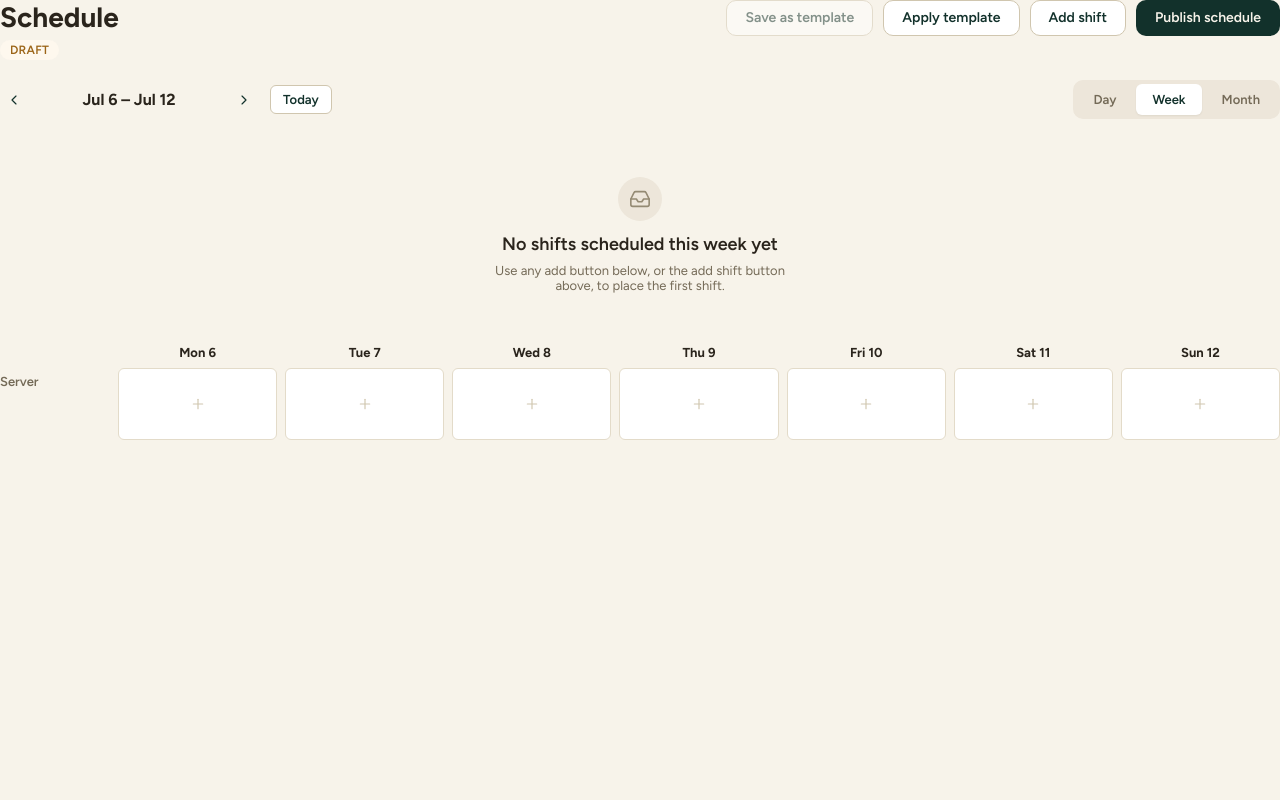
Test case: ScheduleView header › header add shift button opens the dialog with position and day selects
Click the button "Add shift" at (1078, 18), box left=1030, top=0, right=1126, bottom=36
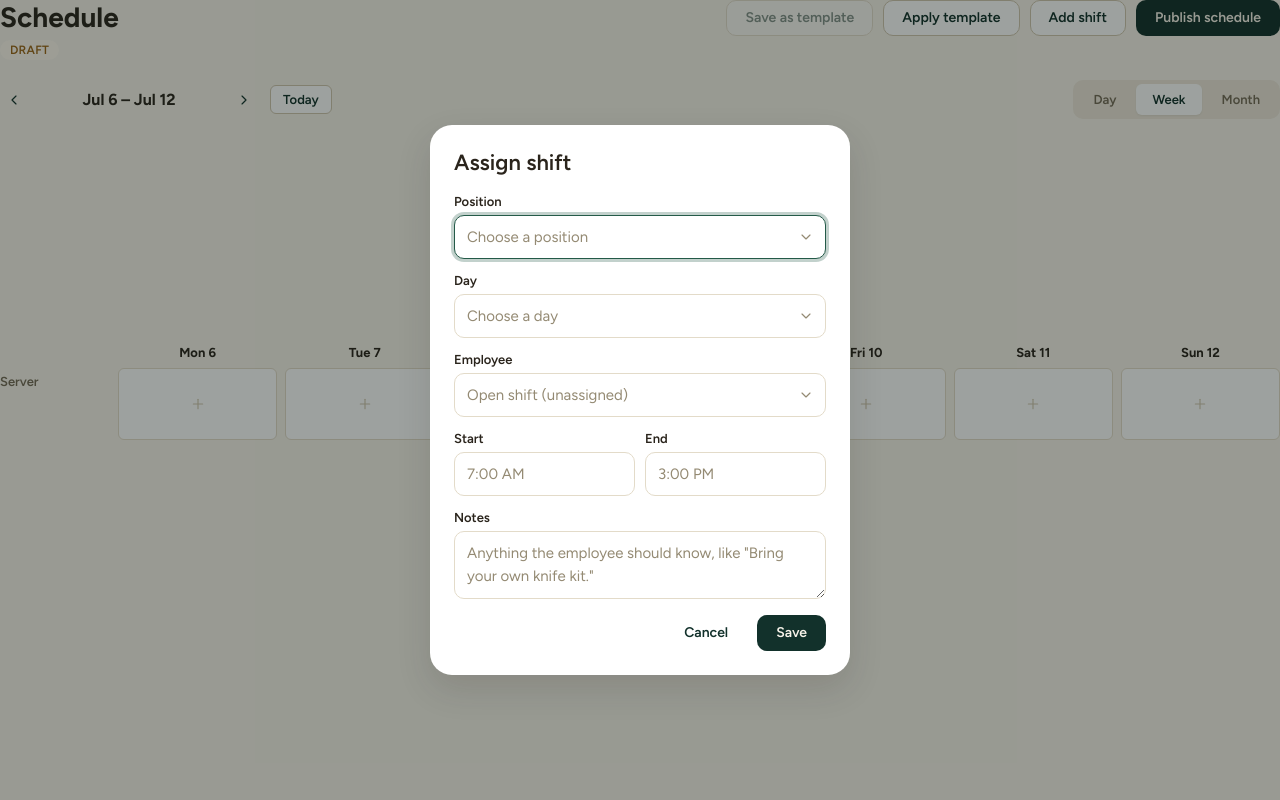
Result: the heading "Assign shift" is shown at left=454, top=149, right=572, bottom=176
